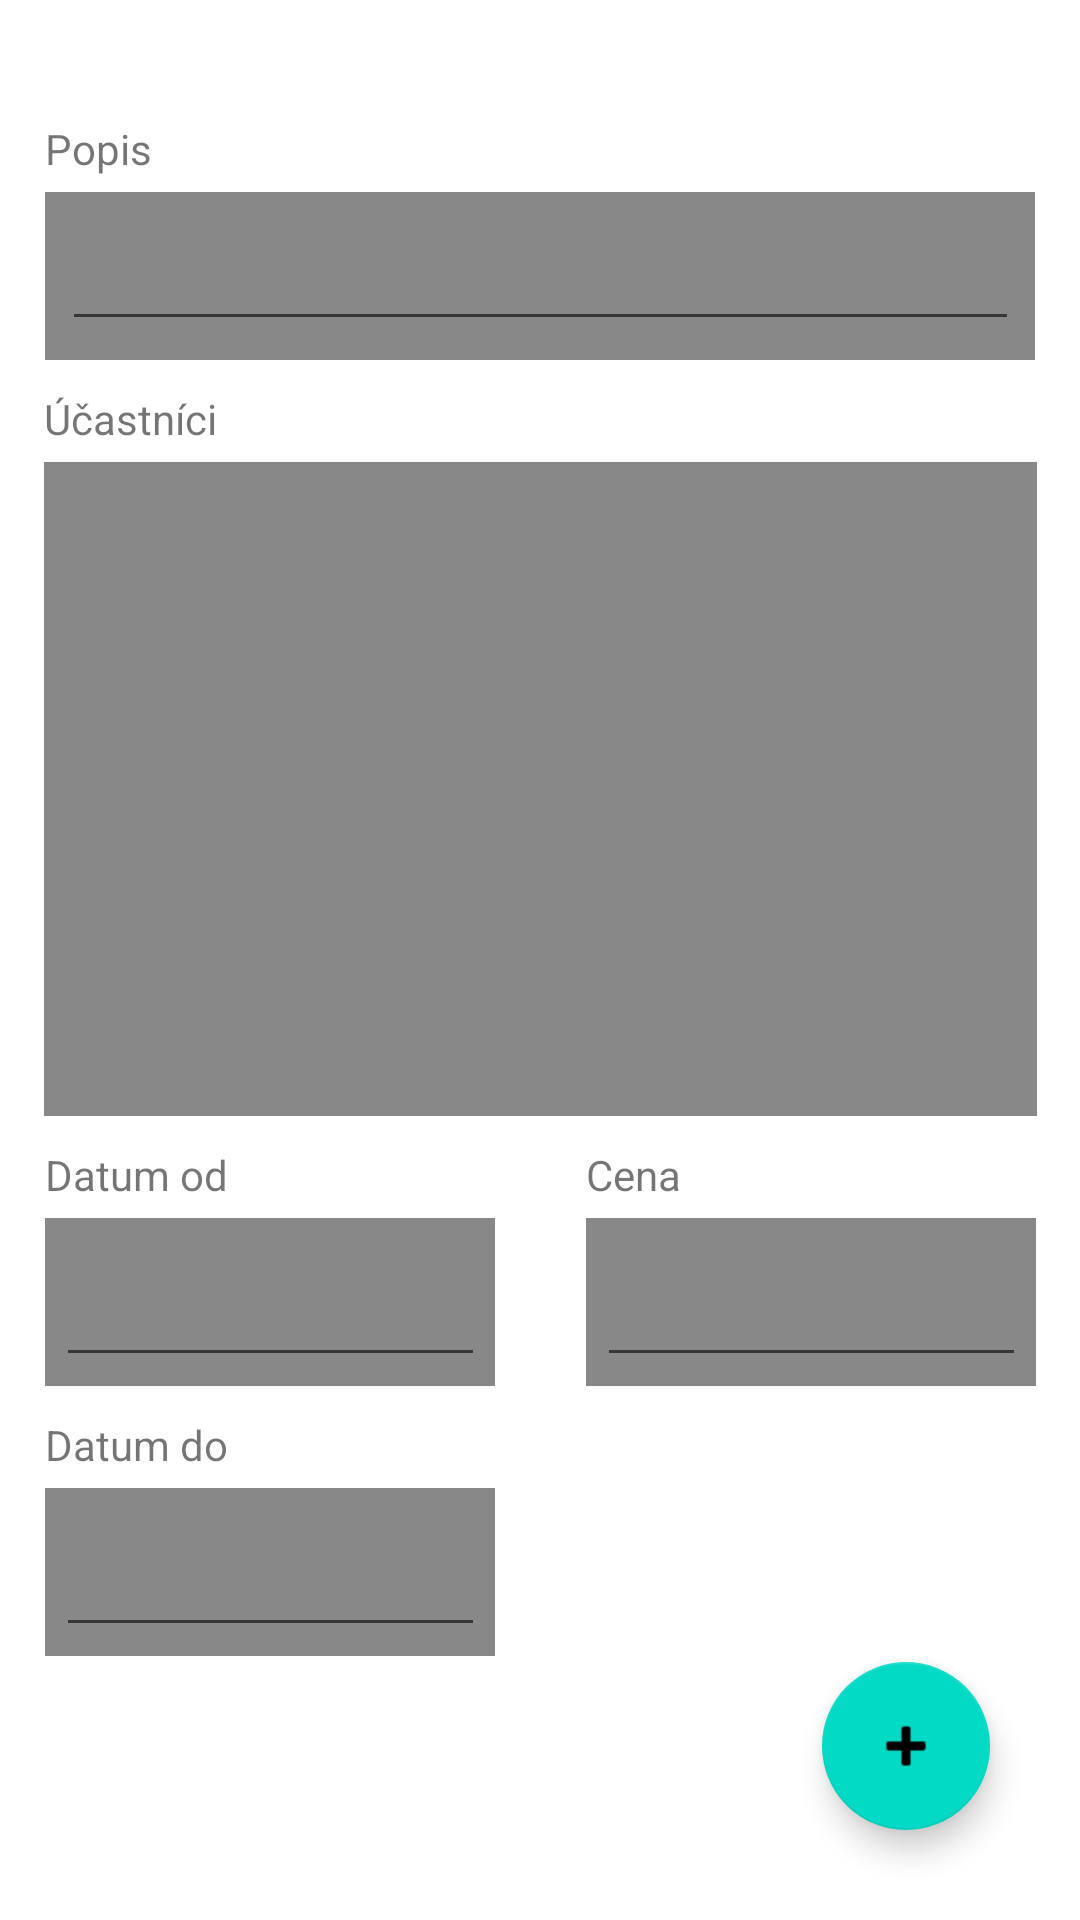

Point at icon controls on the screen. Image size 1080 x 1920, points as (x,y).
Pčidej akci: (906,1746)
